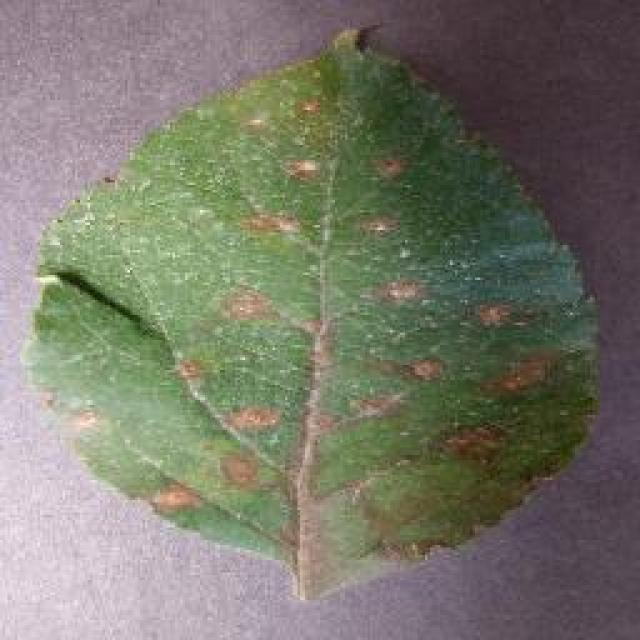apple healthy: (20, 20, 602, 600)
